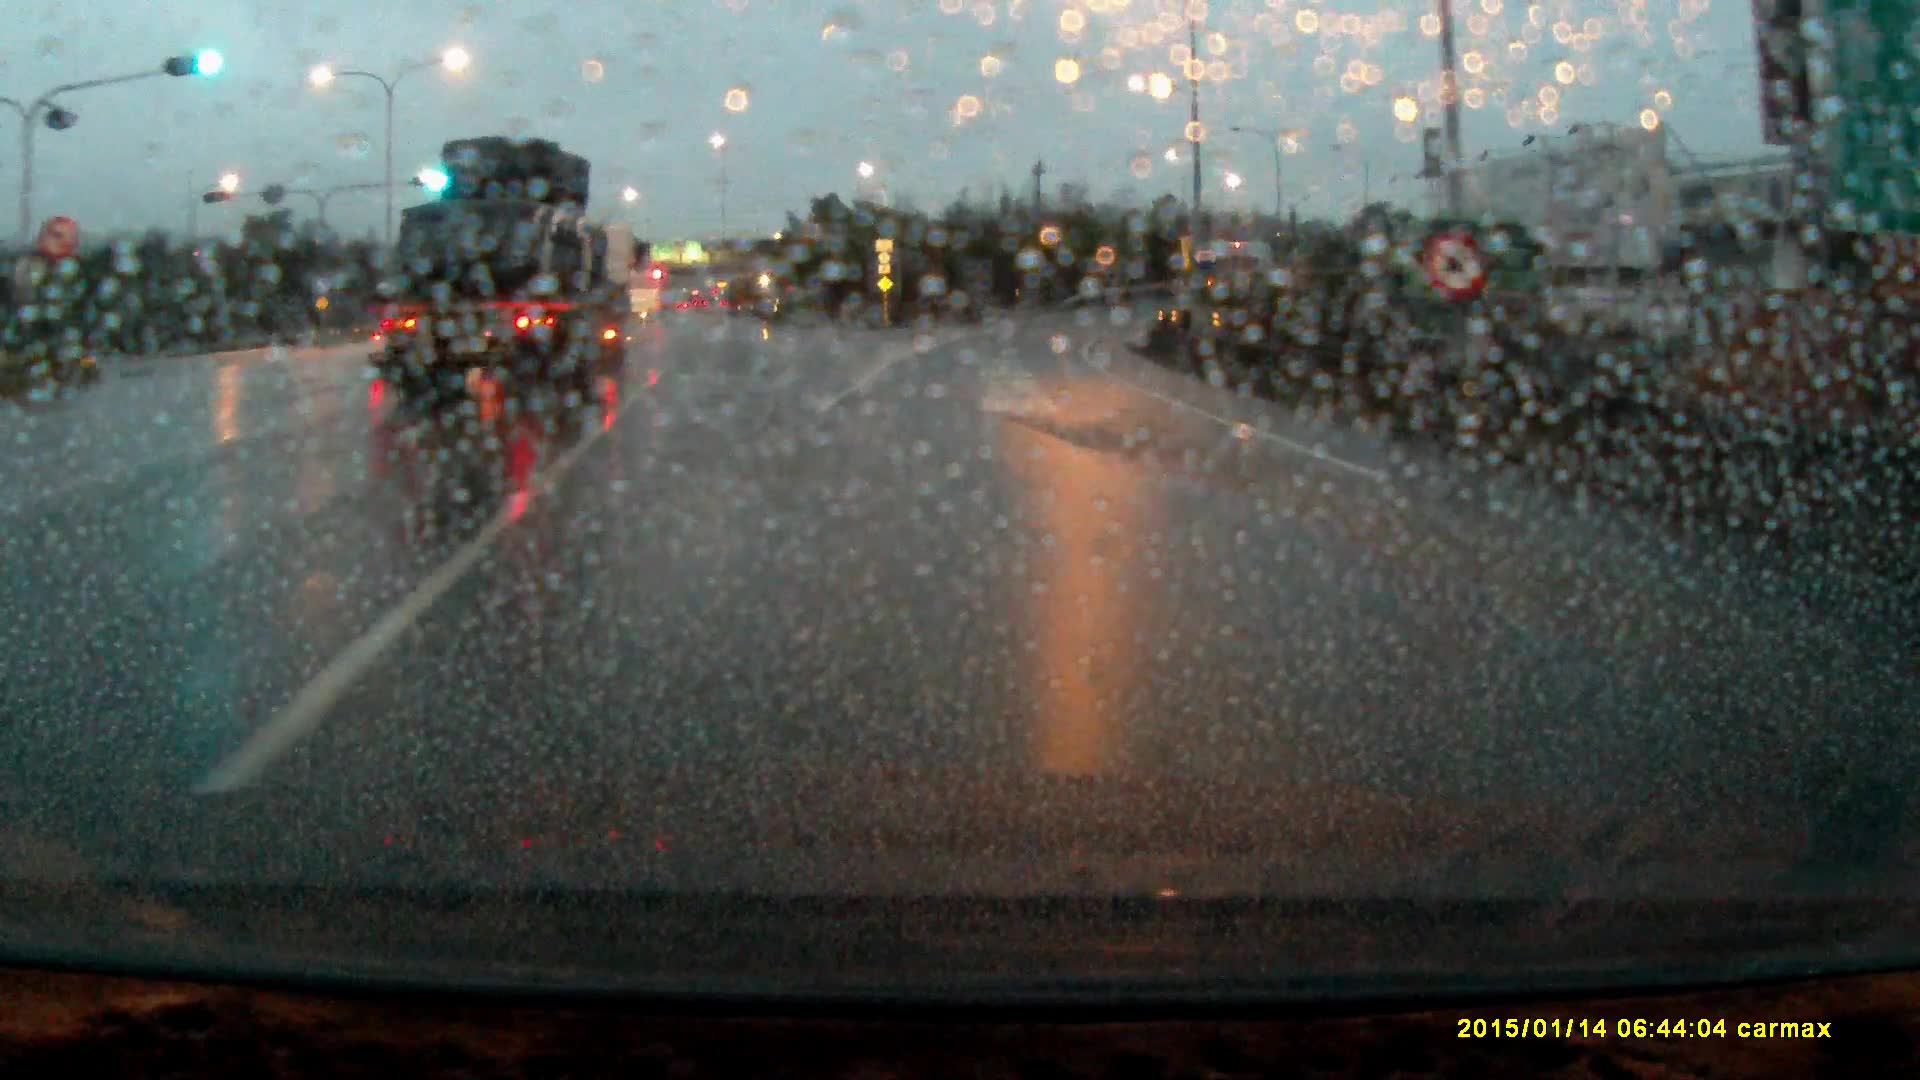rider: (368, 286, 417, 377)
vehicle: (381, 134, 638, 415), (632, 267, 665, 324)
